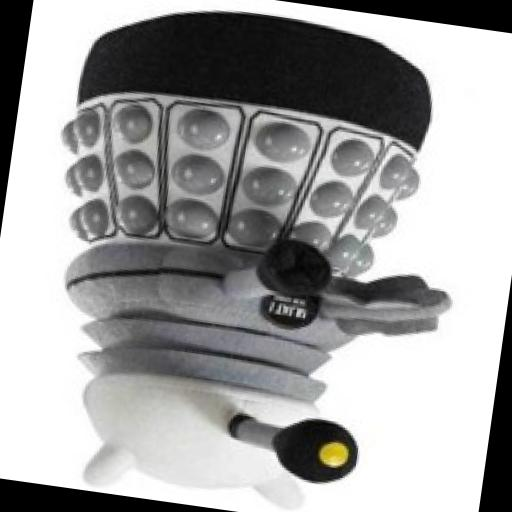dalek: (3, 0, 499, 512)
